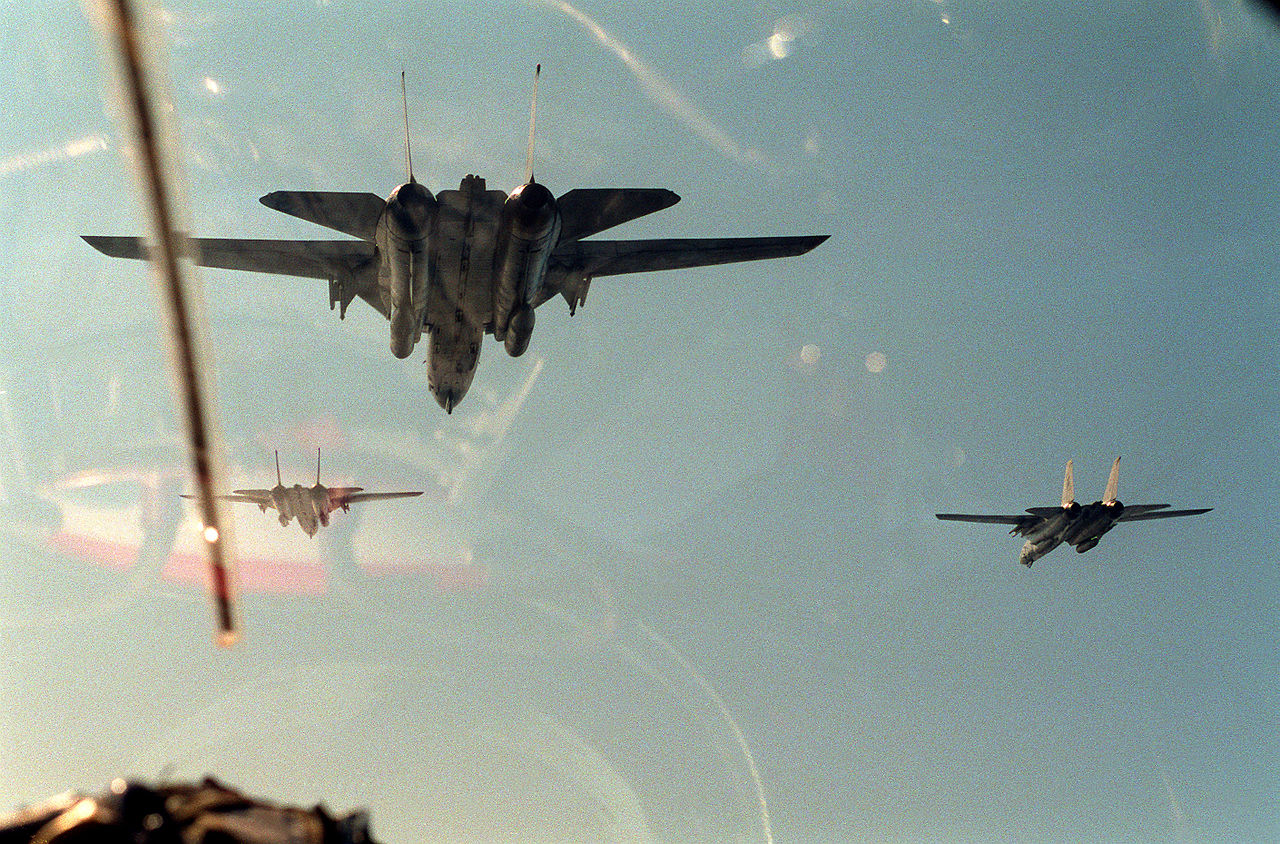F14: (78, 63, 833, 416), (935, 455, 1215, 569), (179, 448, 424, 541)
